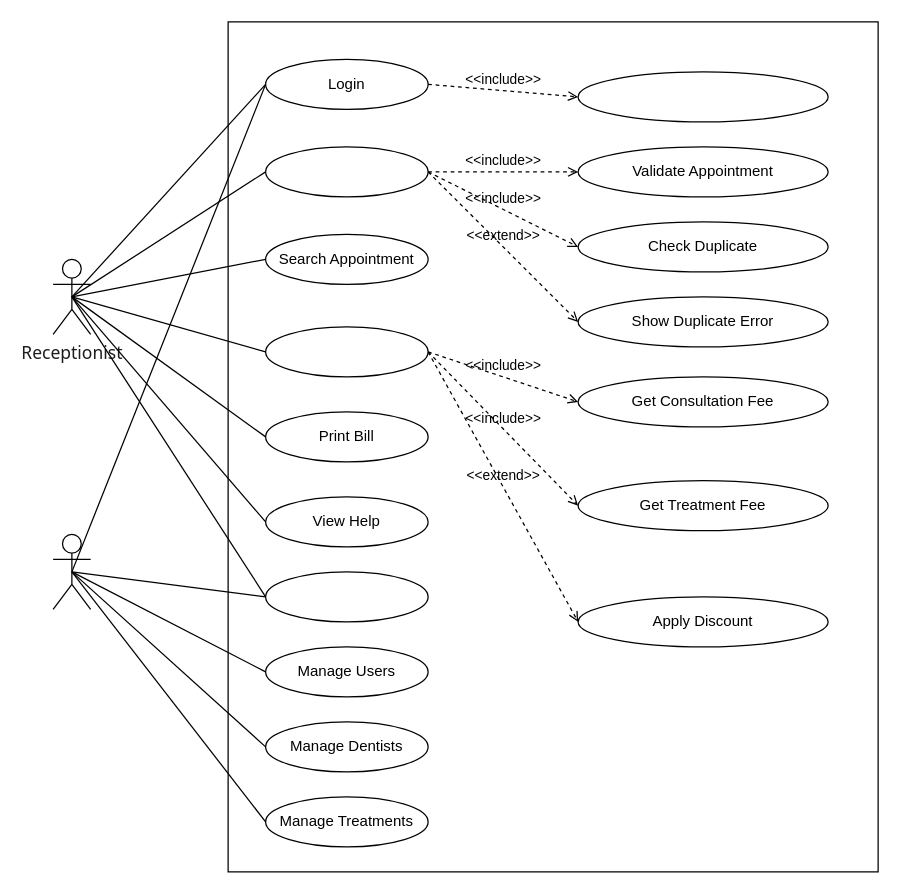
Image size: 900x894. Some labels were removed from this diagram. The shapes that lost their labels are listed below. From the top down, each one's centre as x and y in pixels, then its label:
At point 702,96: "Show Invalid Login".
At point 346,171: "Register Appointment".
At point 346,351: "Calculate Bill".
At point 71,571: "Admin".
At point 346,596: "Exit System".
